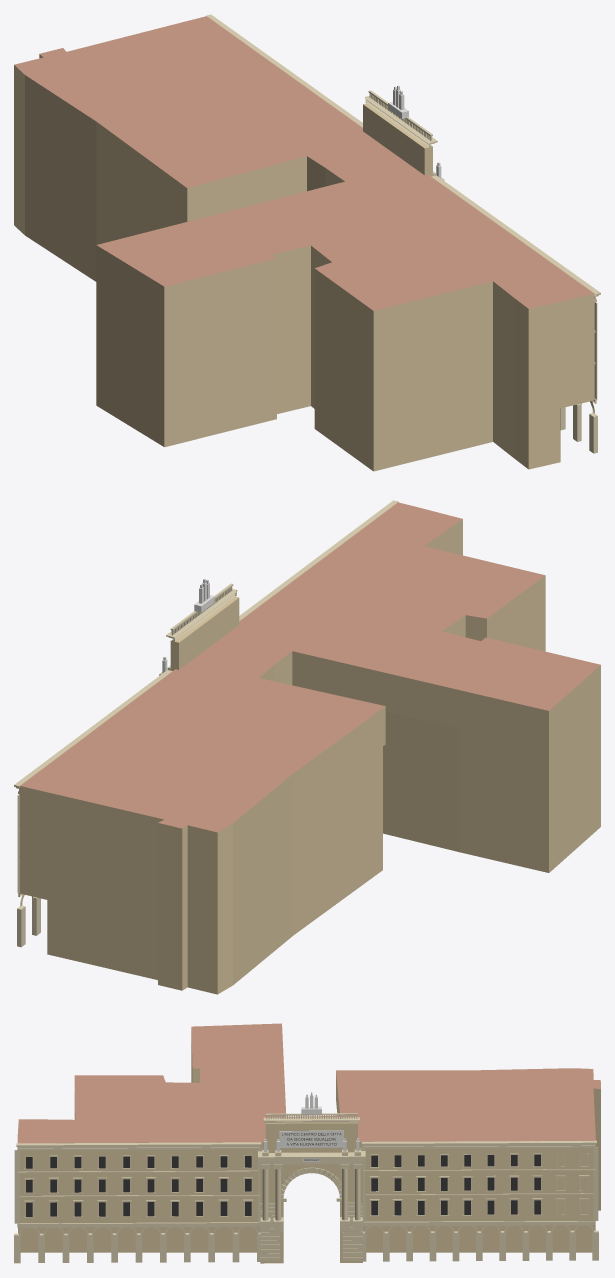
The model's file is repubblica.glb.
3 renders of one model, top to bottom at view 1: azimuth 30°, elevation 25°; view 2: azimuth 150°, elevation 25°; view 3: azimuth 270°, elevation 25°, orthographic. The views are drawn at different scales.
Parts seen in each view (by area): view 1: arcone@1895-99999.plaster, arcone@1895-99999.roof, arcone@1895-99999.dress; view 2: arcone@1895-99999.plaster, arcone@1895-99999.roof, arcone@1895-99999.dress; view 3: arcone@1895-99999.plaster, arcone@1895-99999.roof, arcone@1895-99999.dress, arcone@1895-99999.dark, arcone@1895-99999.panel, arcone@1895-99999.letters.
Part boxes in pixels (left/top/right/bottom): arcone@1895-99999.plaster: left=14, top=54, right=594, bottom=471; arcone@1895-99999.roof: left=14, top=16, right=593, bottom=310; arcone@1895-99999.dress: left=206, top=14, right=600, bottom=453; arcone@1895-99999.plaster: left=19, top=519, right=600, bottom=994; arcone@1895-99999.roof: left=20, top=502, right=600, bottom=832; arcone@1895-99999.dress: left=14, top=500, right=398, bottom=947; arcone@1895-99999.plaster: left=18, top=1030, right=600, bottom=1263; arcone@1895-99999.roof: left=17, top=1023, right=600, bottom=1143; arcone@1895-99999.dress: left=14, top=1113, right=598, bottom=1263; arcone@1895-99999.dark: left=26, top=1154, right=540, bottom=1216; arcone@1895-99999.panel: left=279, top=1130, right=343, bottom=1161; arcone@1895-99999.letters: left=282, top=1133, right=341, bottom=1160.
Bounding box in the file's own units: 57.64 × 37 × 114.
